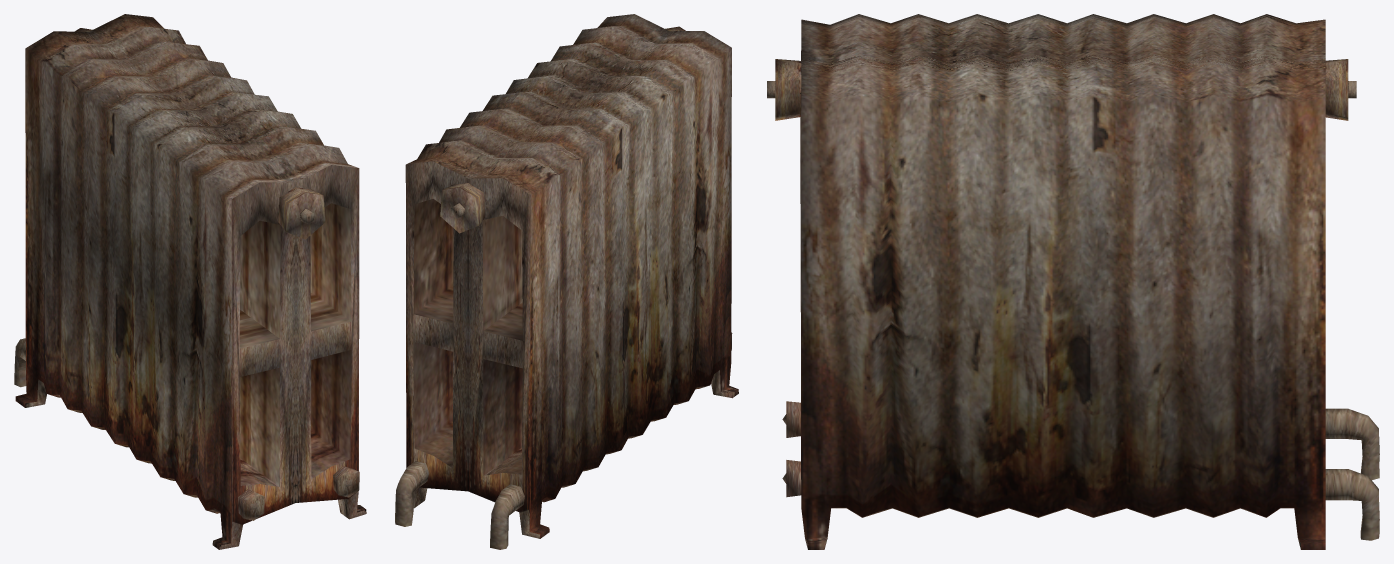
File: furniture_radiator.DAE
The picture shows the model from 3 angles, left to right: view 1: azimuth 30°, elevation 25°; view 2: azimuth 150°, elevation 25°; view 3: azimuth 270°, elevation 25°; orthographic projection. The views are drawn at different scales.
Parts seen in each view (by area): view 1: furniture_radiator; view 2: furniture_radiator; view 3: furniture_radiator.
Part boxes in pixels (x1,y1,x2,y2): furniture_radiator: [14, 14, 366, 549]; furniture_radiator: [395, 14, 738, 549]; furniture_radiator: [767, 14, 1379, 549].
Size of what is drawn, in the model's own units: 0.3554 by 0.8401 by 1.01.
